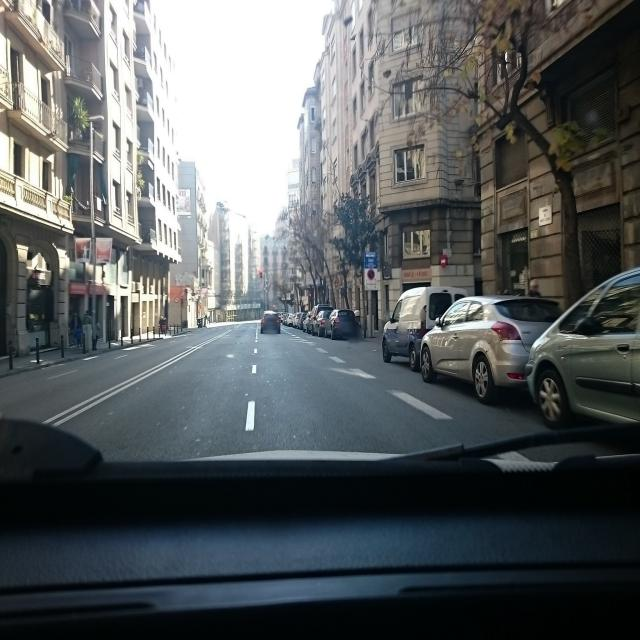car: (524, 255, 640, 443), (420, 294, 564, 404), (381, 286, 468, 370), (327, 308, 359, 340), (310, 304, 332, 335), (314, 307, 332, 336), (260, 311, 281, 334), (301, 312, 311, 332), (304, 312, 313, 332), (294, 312, 304, 328), (297, 312, 306, 329), (286, 313, 295, 327), (278, 312, 287, 324)
